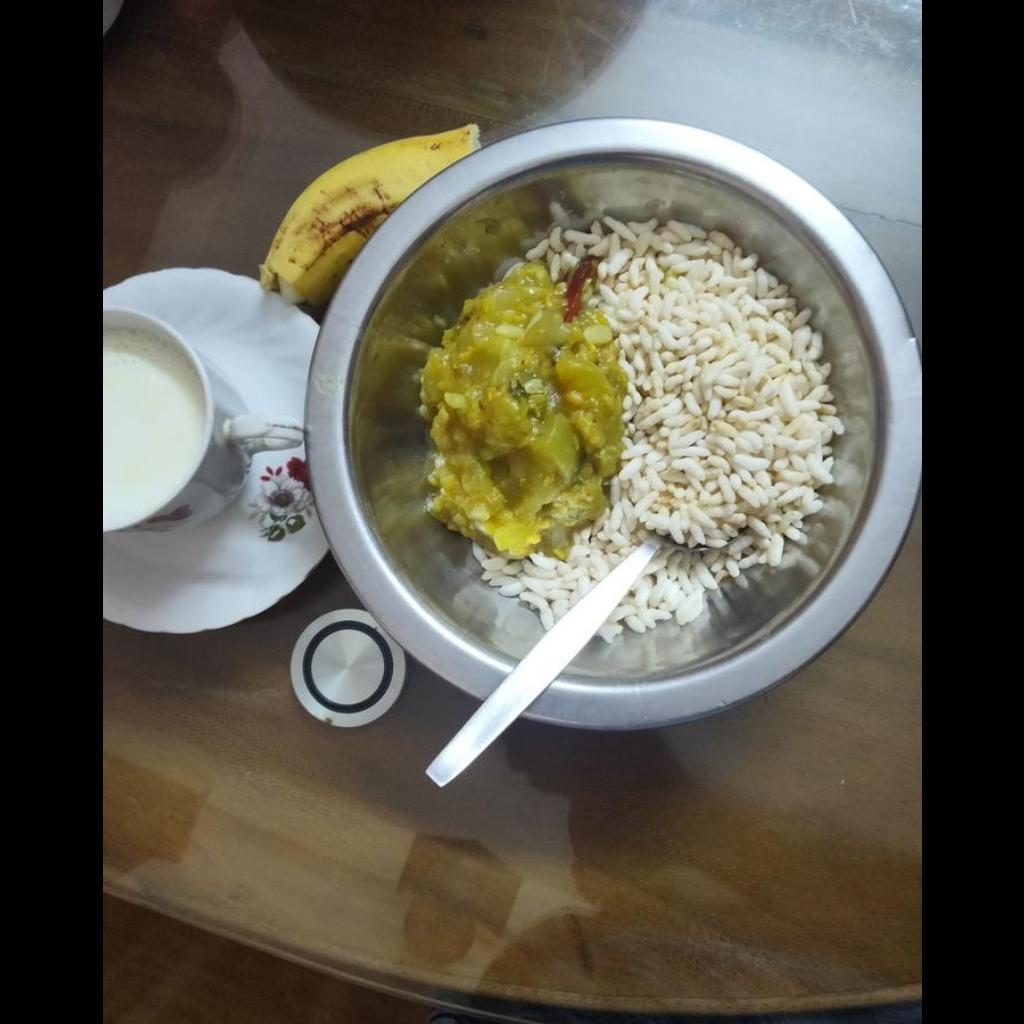banana: (266, 127, 478, 307)
milk: (102, 335, 192, 502)
puffed-rice: (479, 217, 839, 635)
vaji: (416, 264, 619, 549)
